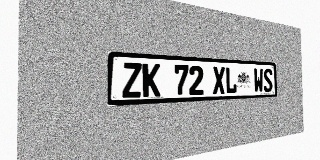2: (189, 65, 203, 95)
7: (173, 65, 189, 96)
K: (142, 63, 160, 97)
L: (225, 67, 237, 94)
S: (263, 68, 273, 92)
W: (253, 68, 263, 93)
X: (213, 66, 225, 94)
Z: (122, 62, 142, 98)
